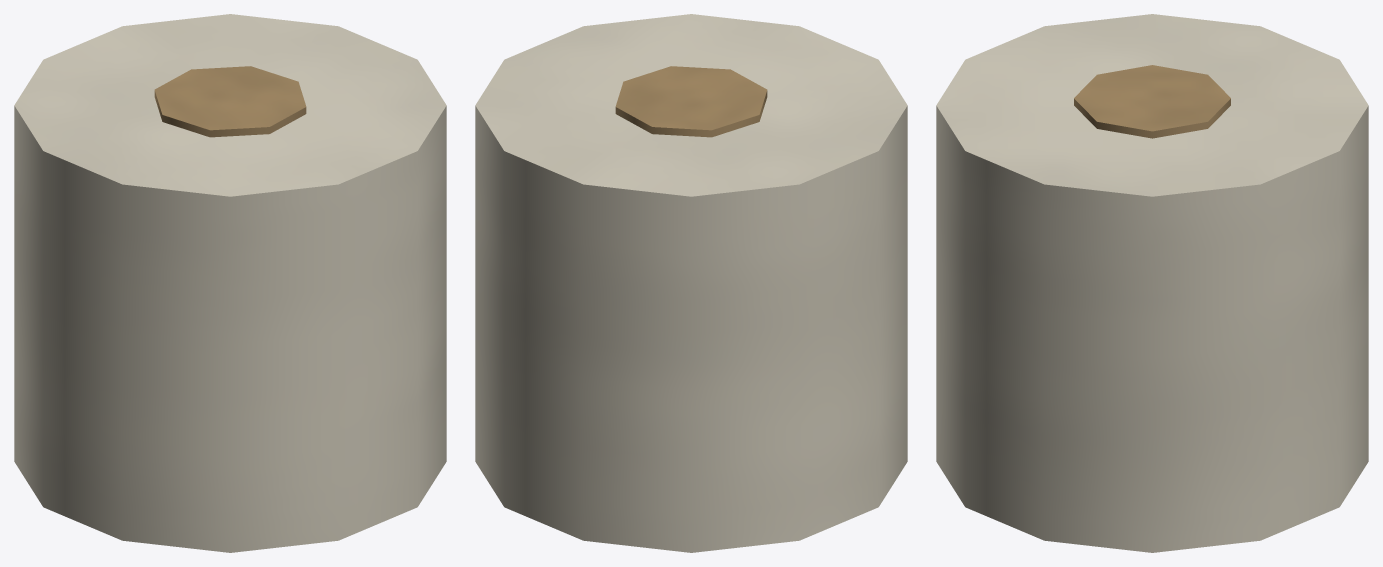
Rendered from toilet_roll.fbx.
The picture shows the model from 3 angles, left to right: view 1: azimuth 30°, elevation 25°; view 2: azimuth 150°, elevation 25°; view 3: azimuth 270°, elevation 25°; orthographic projection.
Visible parts, largest first — view 1: toilet_roll; view 2: toilet_roll; view 3: toilet_roll.
Boxes of the visible parts, x1=… form: toilet_roll: x1=14, y1=14, x2=446, y2=552; toilet_roll: x1=475, y1=14, x2=907, y2=552; toilet_roll: x1=936, y1=14, x2=1368, y2=552.
Size of the model in its own units: 0.11 by 0.102 by 0.11.
1 material, 1 textured.
